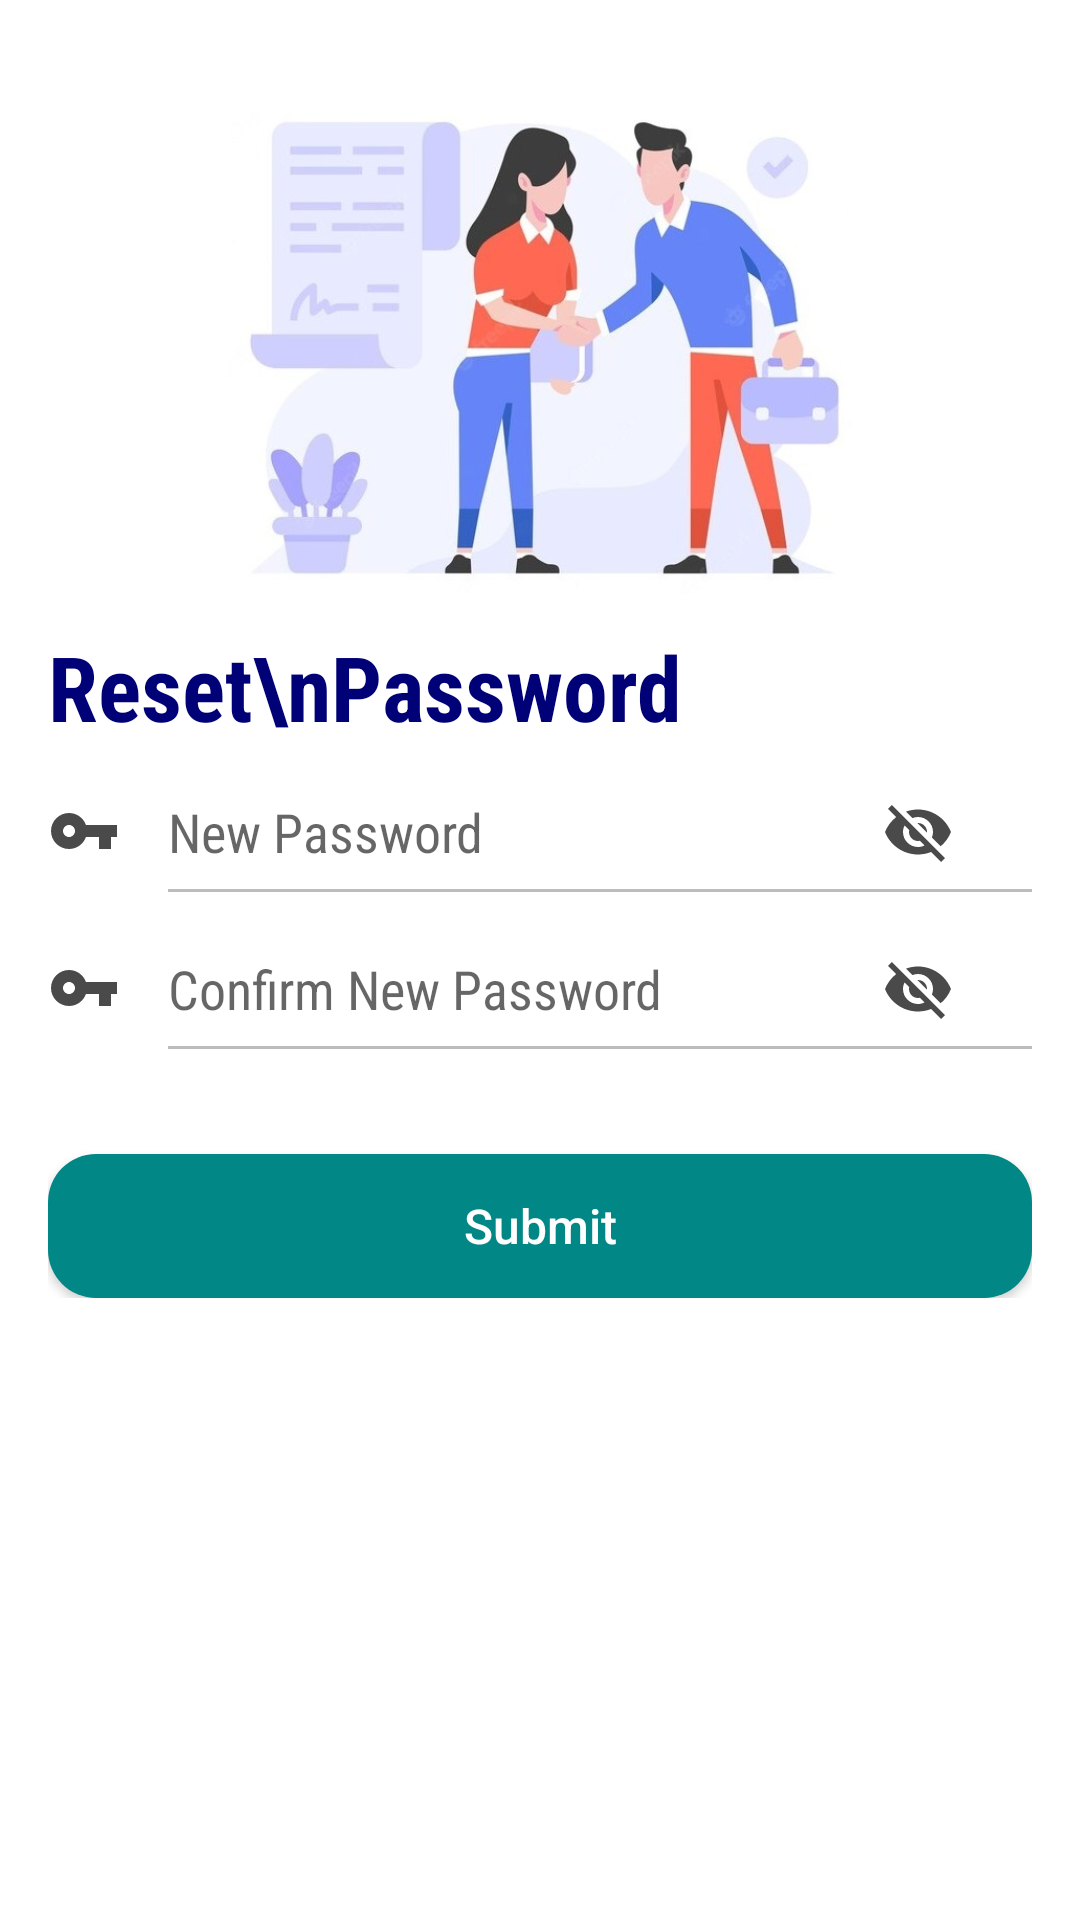

Icons on this 1080×1920 Android screen, each with its box as (x1, y1, x2, y2):
visibility off: (885, 805, 951, 862), (885, 962, 951, 1019)
